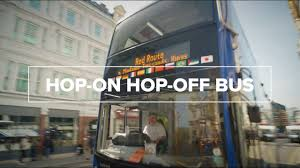bus: (91, 1, 262, 168)
